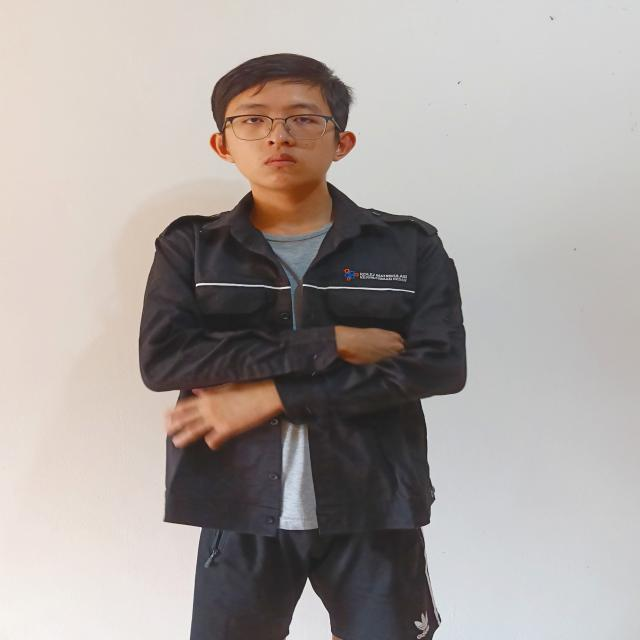person_with_labcoat: (139, 54, 466, 640)
